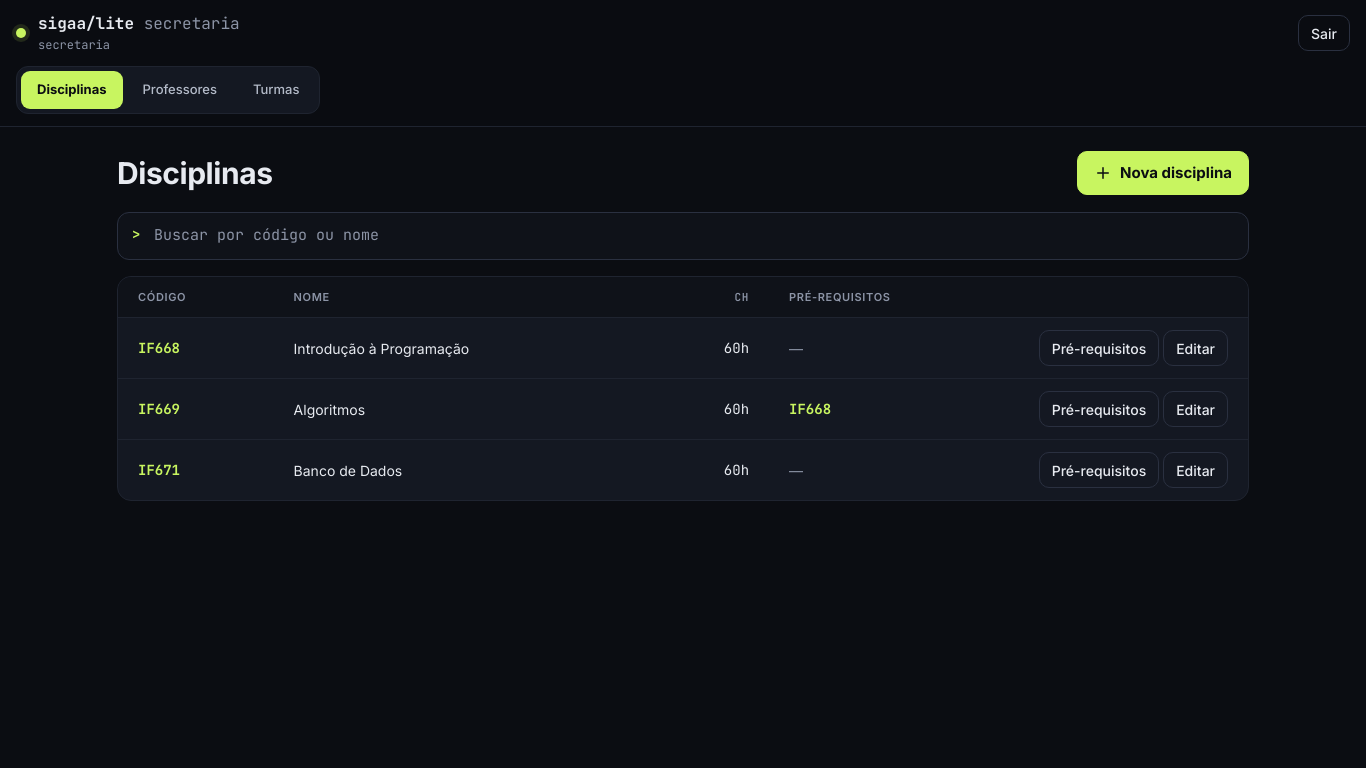
Test: secretaria define pré-requisitos › marca os atuais, não oferece a própria disciplina e envia a nova lista
This screenshot has width=1366, height=768.
Step 1. Click the button with aria-label "Pré-requisitos de IF669" → (1099, 409), box [1039, 391, 1159, 427]
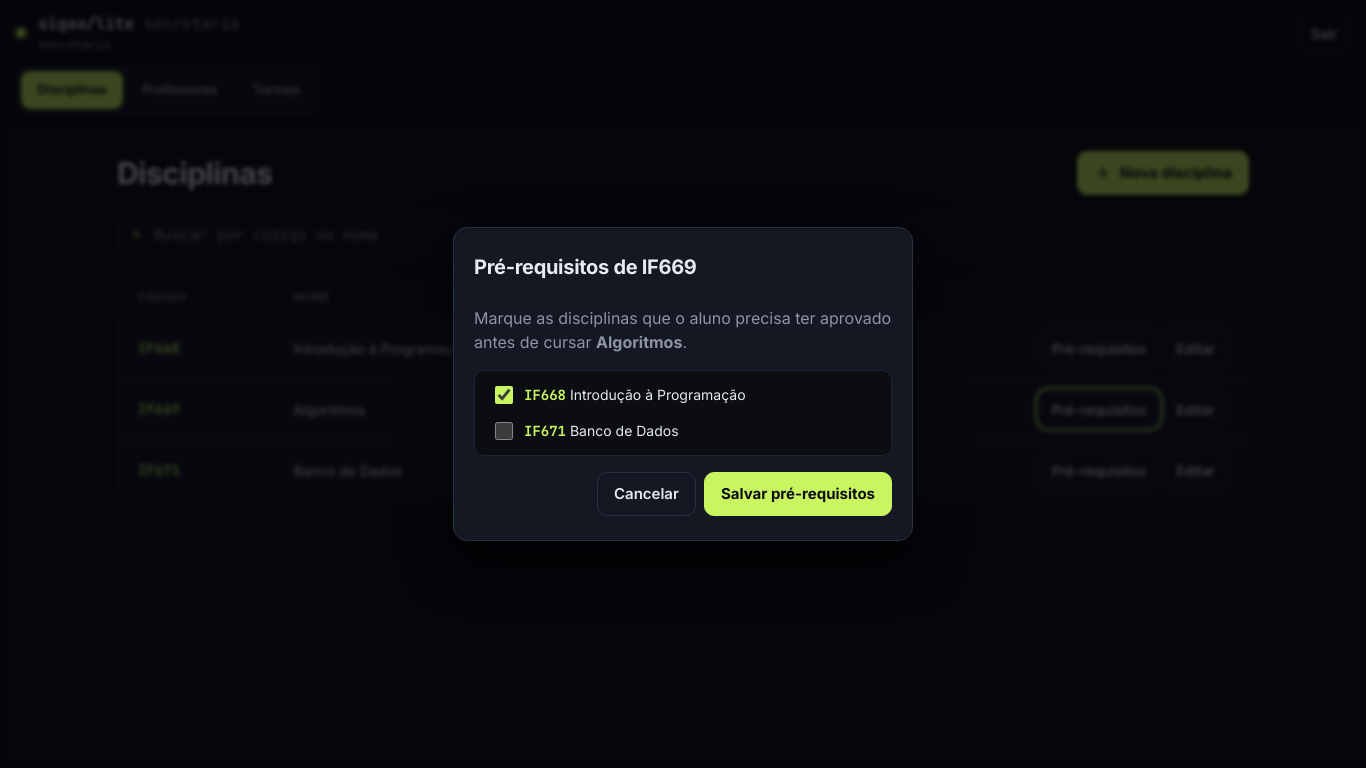
Expected: the checkbox labelled "IF668 Introdução à Programação" is checked, [495, 386, 513, 404]
Step 2. Click the checkbox labelled "IF671 Banco de Dados" → (504, 431), box [495, 422, 513, 440]
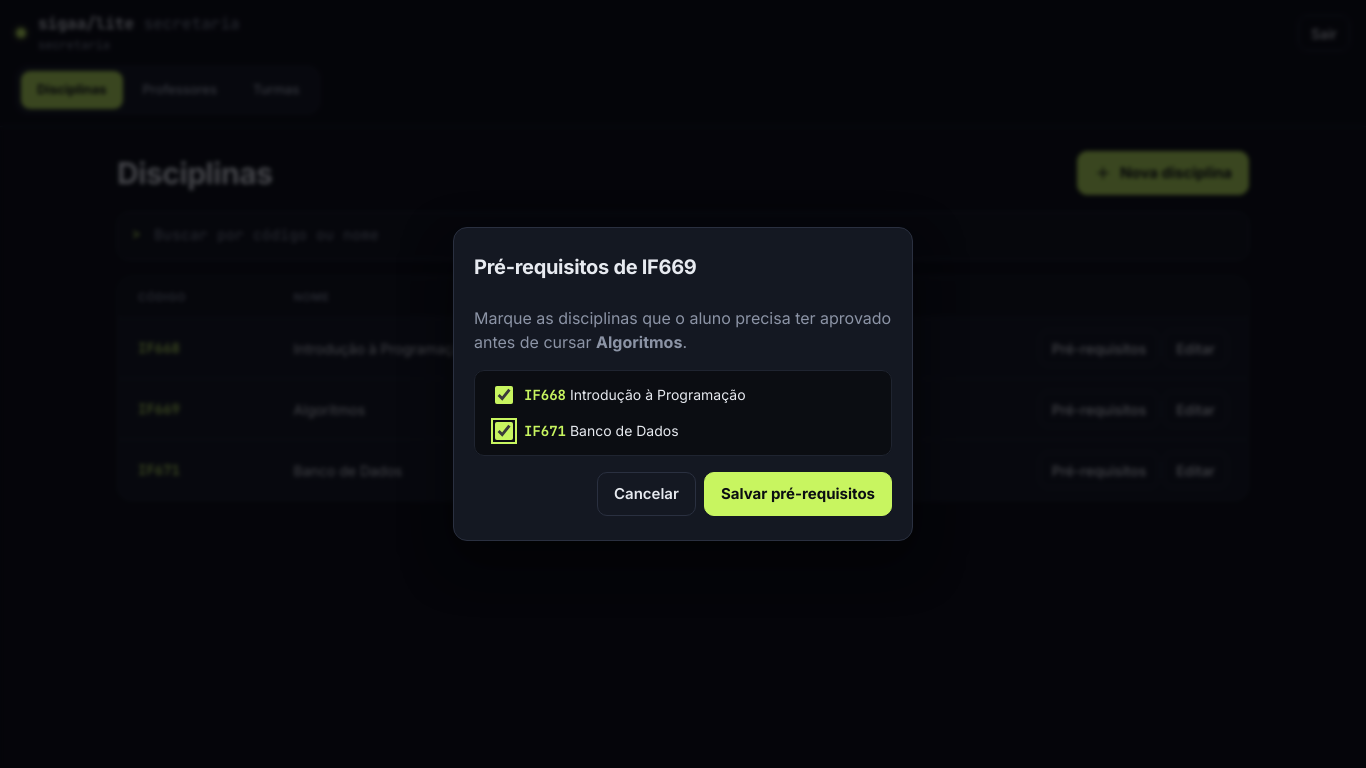
Step 3. Click the button "Salvar pré-requisitos" → (798, 494), box [704, 472, 892, 516]
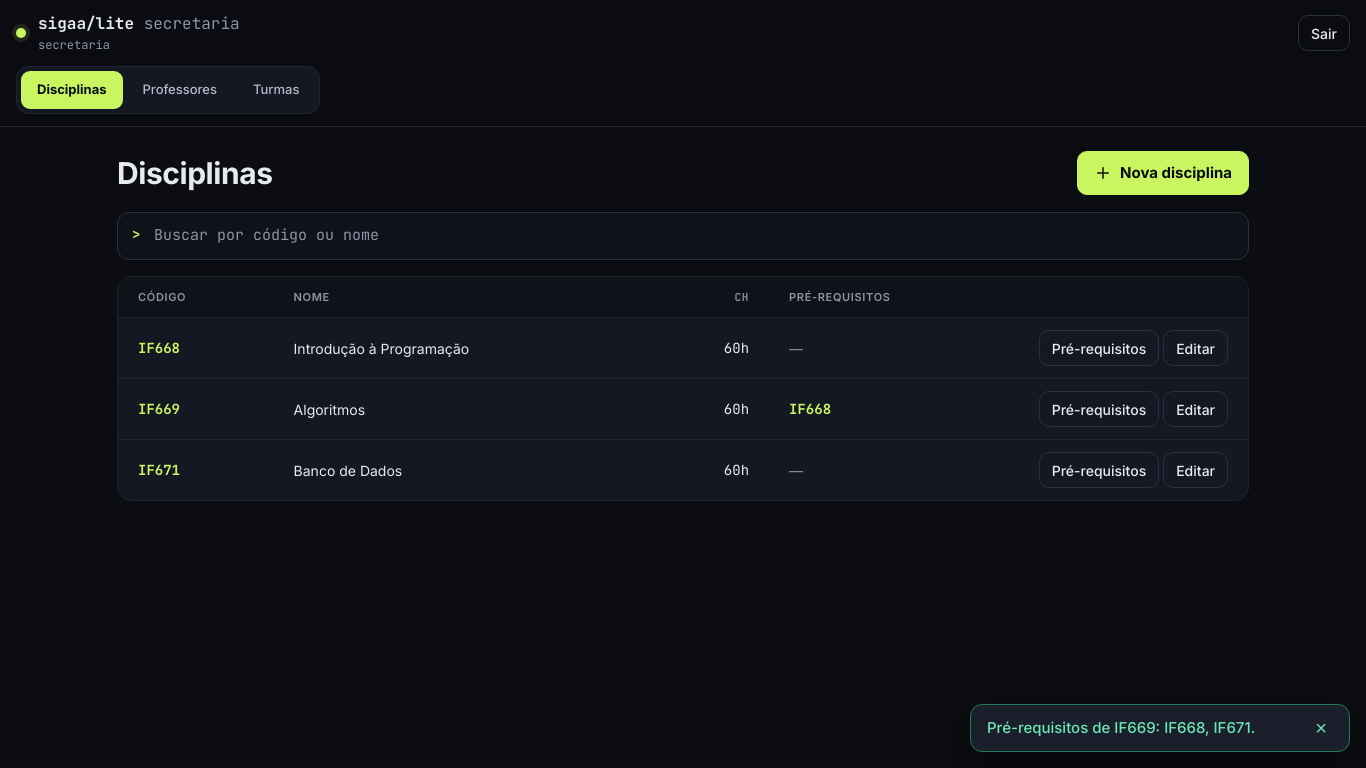
Expected: the text "Pré-requisitos de IF669: IF668, IF671." is shown, [987, 716, 1255, 739]
